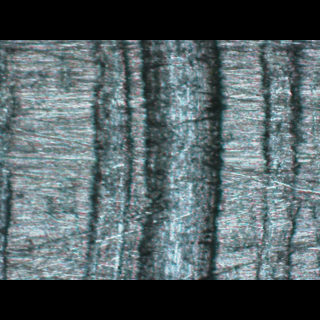d: (85, 40, 226, 279), (252, 41, 314, 279)
